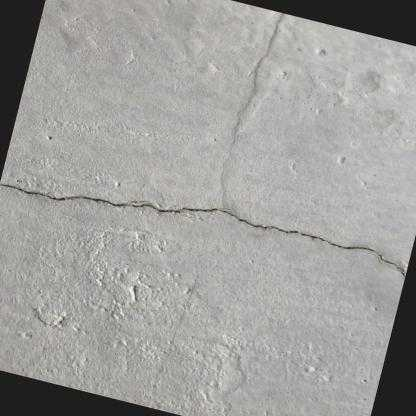crack: (0, 182, 407, 277)
